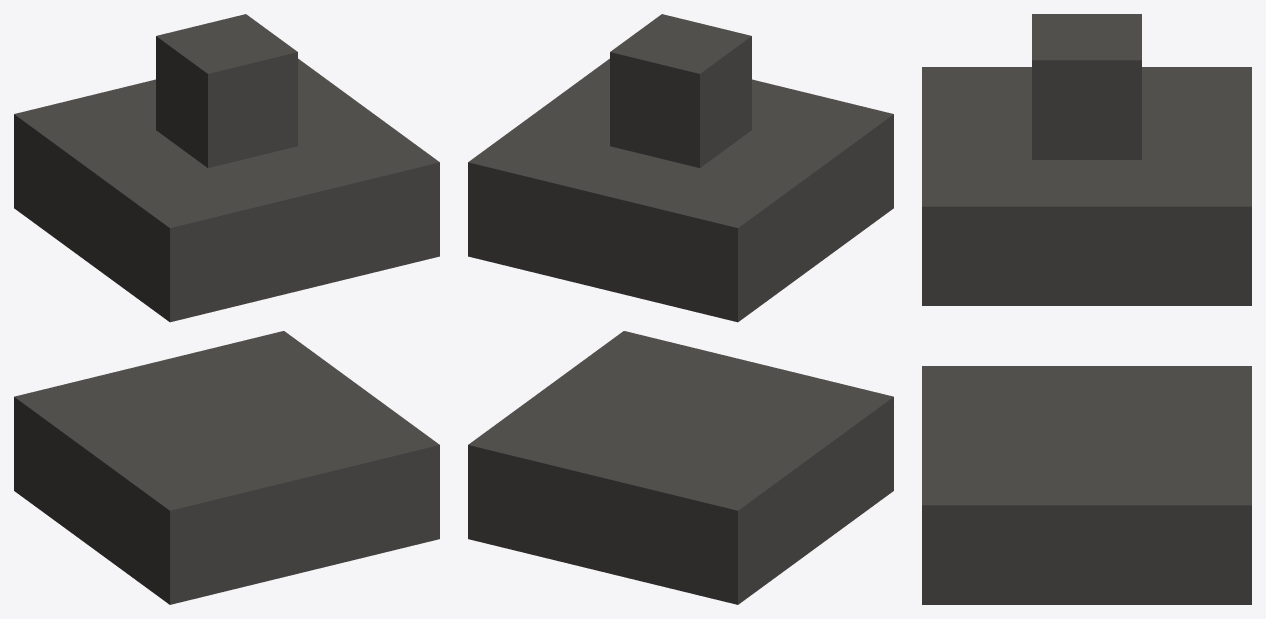
File: church-59-lantern.obj
3 views of the same model, side by side, from view 1: azimuth 30°, elevation 25°; view 2: azimuth 150°, elevation 25°; view 3: azimuth 270°, elevation 25° (orthographic). The views are drawn at different scales.
Parts seen in each view (by area): view 1: lantern; view 2: lantern; view 3: lantern.
Boxes of the visible parts, <box> form: lantern: <box>14,14,439,604</box>; lantern: <box>468,14,893,604</box>; lantern: <box>922,14,1251,604</box>.
Size of the model in its own units: 0.3 by 0.5 by 0.3.
1 material, 1 textured.
